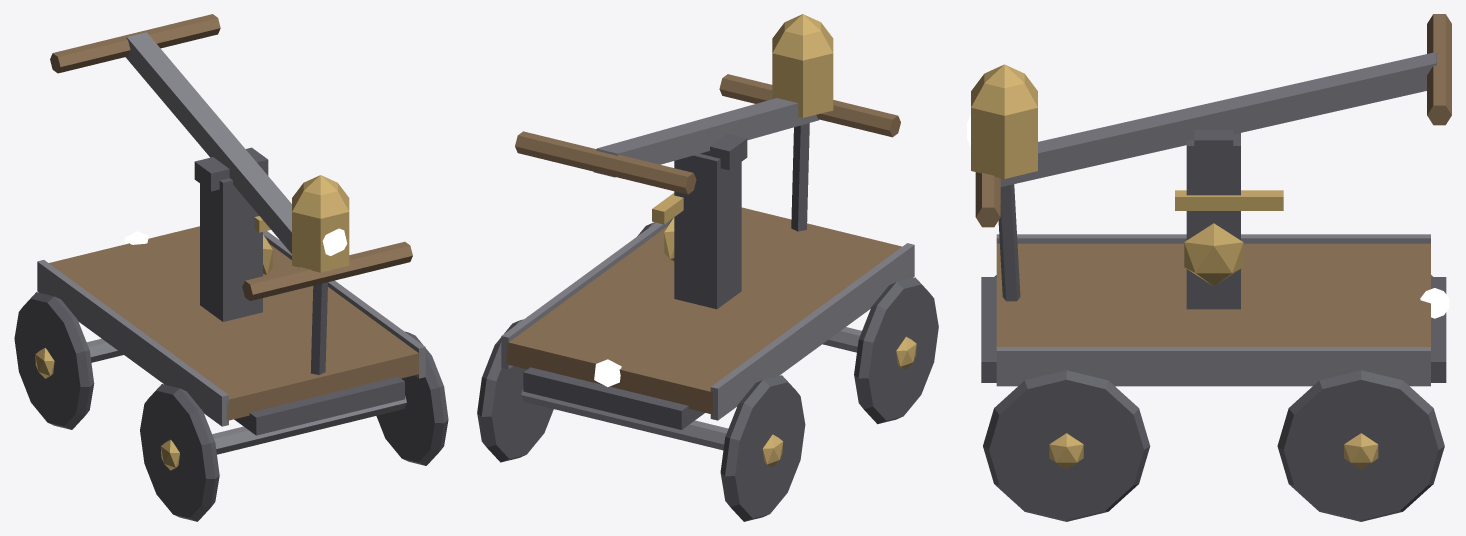
Rendered from engine-handcar.glb.
3 renders of one model, left to right at view 1: azimuth 30°, elevation 25°; view 2: azimuth 150°, elevation 25°; view 3: azimuth 270°, elevation 25°, orthographic. The views are drawn at different scales.
Visible parts, largest first — view 1: handcar_body; view 2: handcar_body; view 3: handcar_body.
Boxes of the visible parts, left/top/right/bottom form: handcar_body: left=14, top=14, right=448, bottom=521; handcar_body: left=477, top=14, right=938, bottom=521; handcar_body: left=967, top=14, right=1451, bottom=521.
Size of the model in its own units: 0.4553 by 0.5676 by 0.6255.
